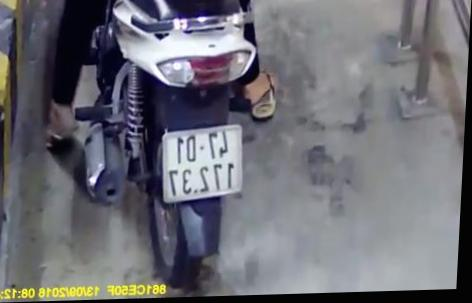License_Plate: (151, 120, 256, 208)
